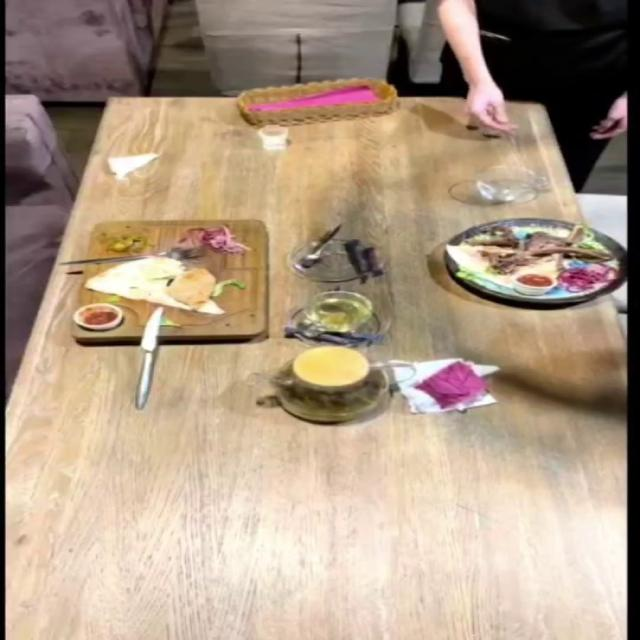meat: (403, 221, 640, 296)
tea: (269, 345, 389, 423)
